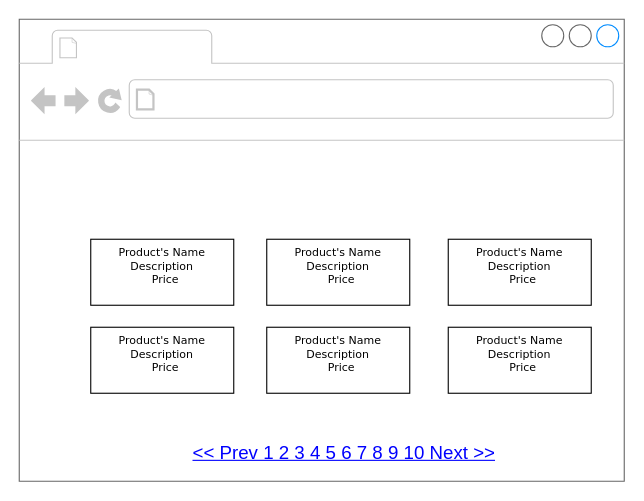
The diagram is 644 pixels wide and 501 high, and some of its shapes have lost their labels. The centre of each missing label's shape, as x and y in pixels:
"https://www.optica.com" belongs at pixel 299 99.
"Index" belongs at pixel 145 46.
